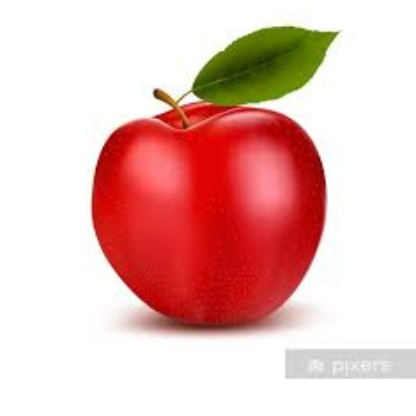tao: (88, 90, 329, 330)
